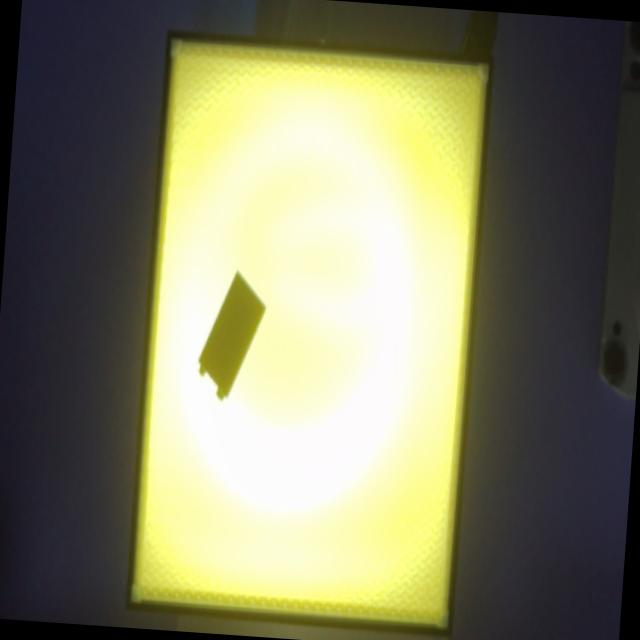bateria: (197, 271, 266, 401)
mesa: (125, 29, 493, 637)
